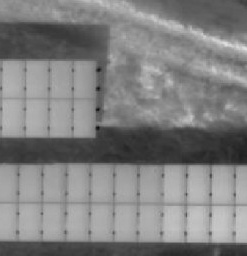solar: (69, 58, 98, 100), (46, 58, 75, 100), (22, 58, 51, 100), (23, 96, 52, 138), (46, 96, 75, 138), (70, 96, 99, 138), (16, 162, 45, 204), (40, 162, 69, 204), (65, 162, 94, 204), (88, 162, 117, 204), (112, 162, 141, 204), (136, 163, 165, 205), (161, 163, 190, 205), (184, 163, 213, 205), (209, 163, 238, 205), (209, 201, 238, 243), (184, 202, 213, 244), (160, 202, 189, 244), (136, 202, 165, 244), (112, 202, 141, 244), (88, 202, 117, 244), (64, 202, 93, 244), (40, 202, 69, 244), (16, 202, 45, 244), (1, 58, 29, 100), (1, 97, 29, 139)
